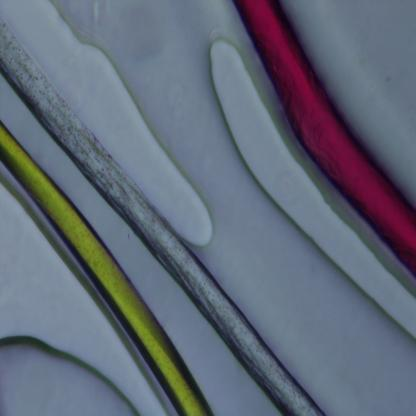Air bubble: (207, 38, 416, 324), (15, 0, 214, 244), (0, 326, 139, 415)
Microfibre: (0, 18, 324, 414), (0, 121, 212, 415), (235, 1, 416, 269)
